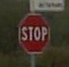stop: (18, 12, 50, 56)
